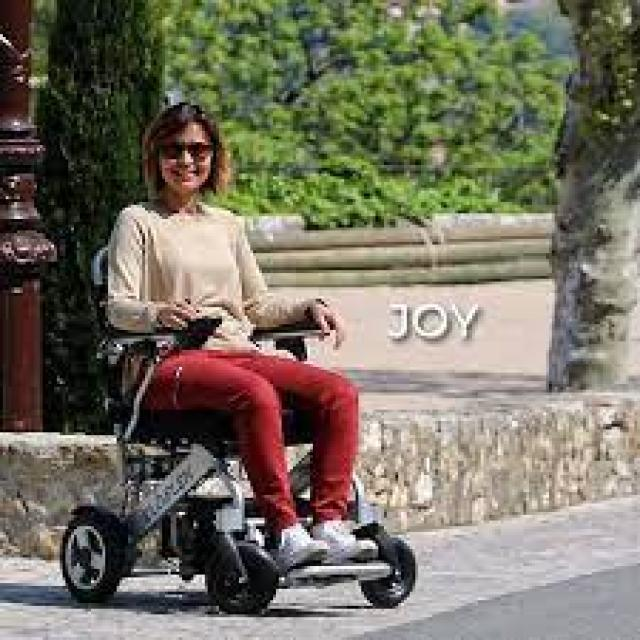wheelchairs: (58, 201, 429, 627)
